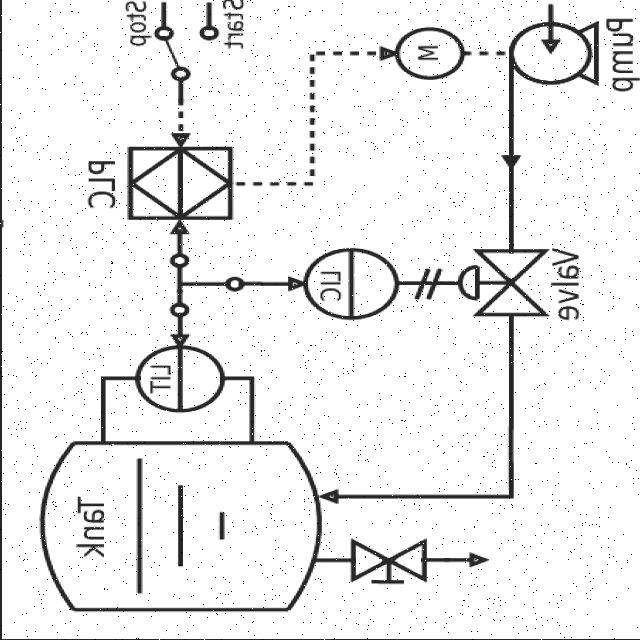Centrifugal Pump: (496, 1, 613, 103)
Hand Operated Gate Valve: (336, 537, 438, 603)
Pneumatic-Diaphragm Gate Valve: (446, 228, 554, 334)
